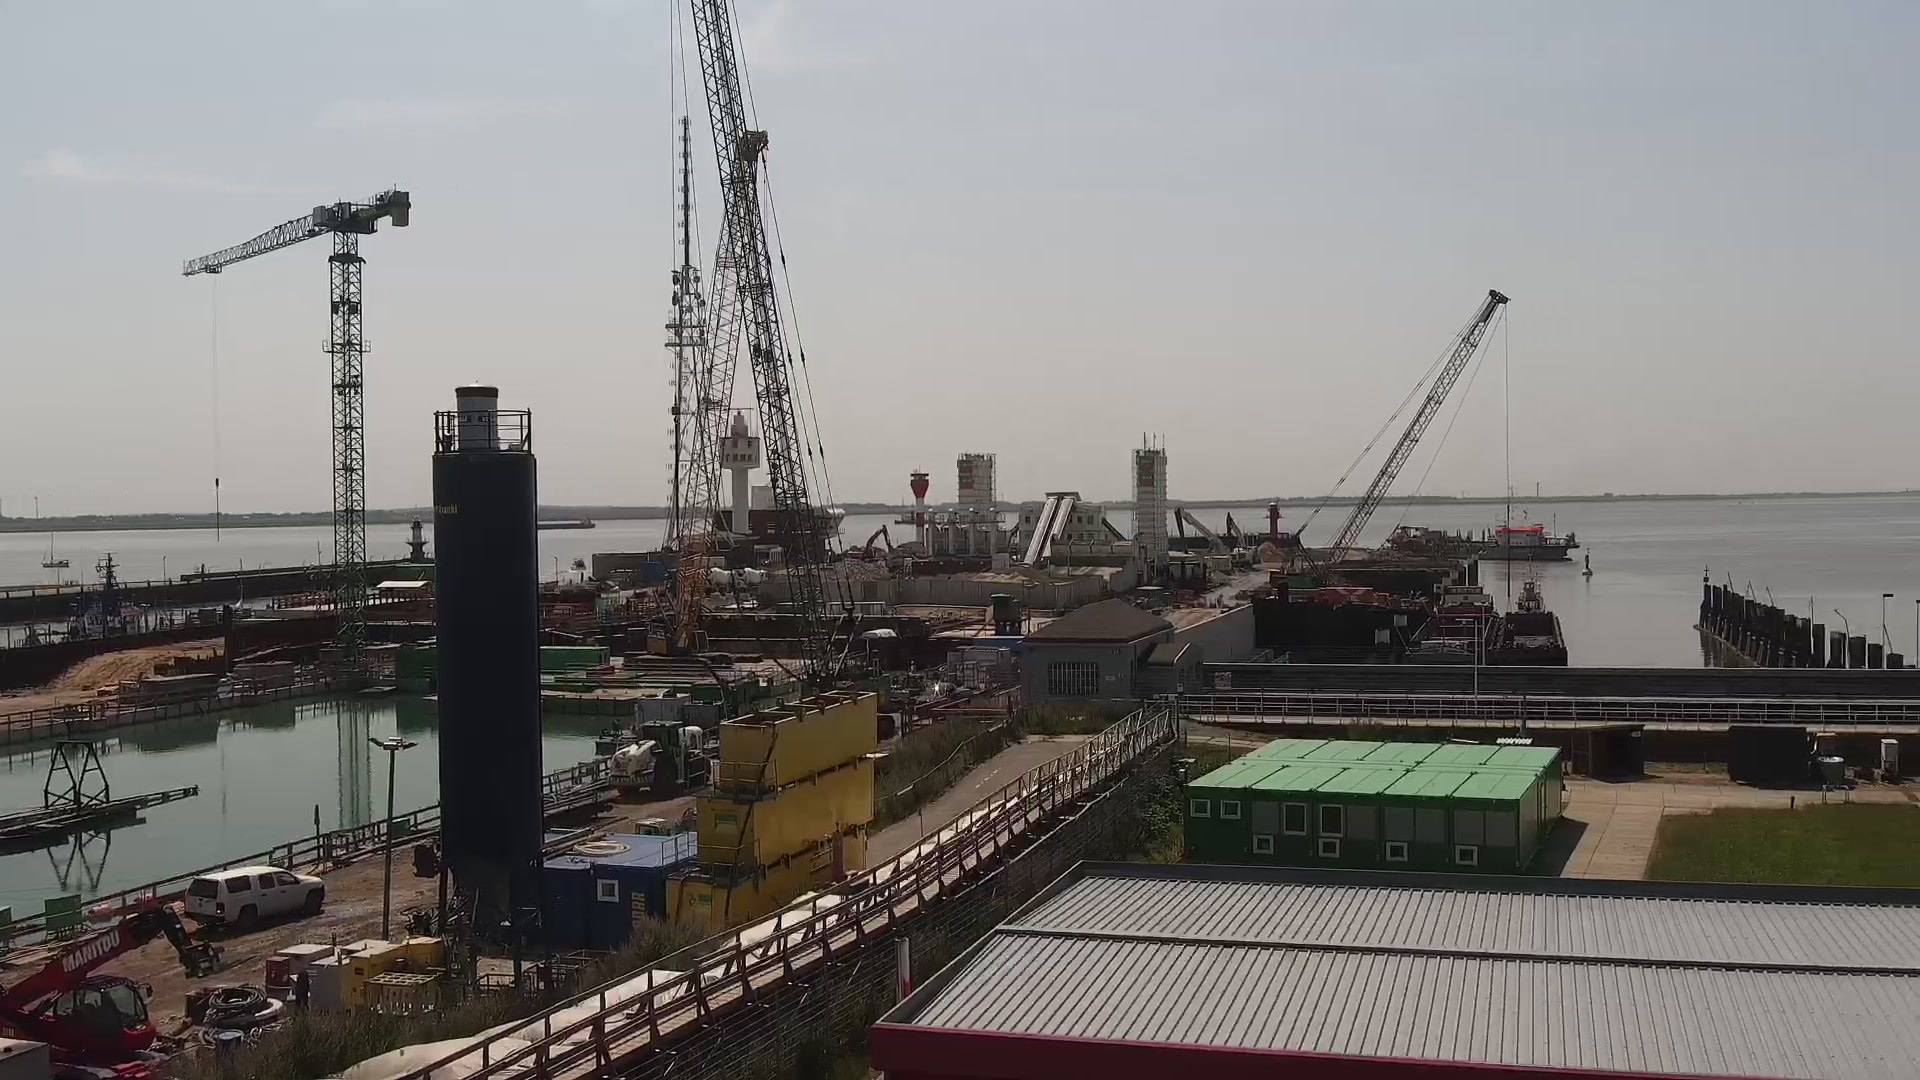land: (182, 860, 324, 928), (603, 717, 711, 794)
sea: (18, 553, 152, 638), (1385, 501, 1575, 560), (1484, 545, 1569, 667), (1400, 582, 1499, 669), (41, 526, 71, 568), (535, 514, 596, 530)
